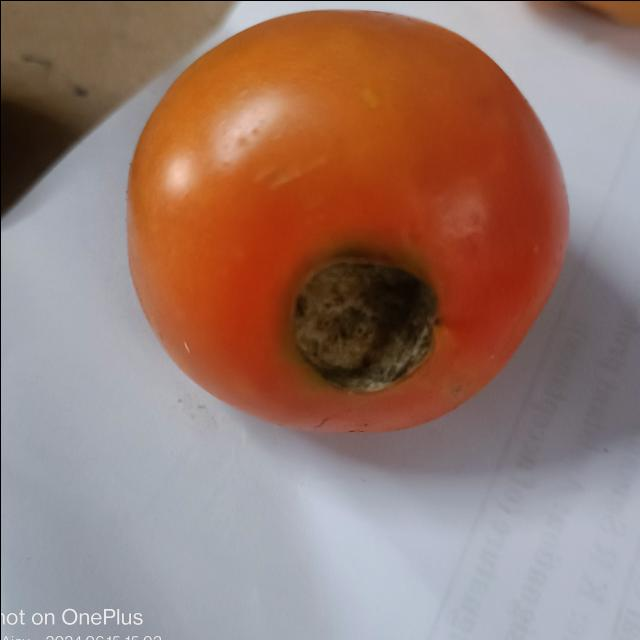fruitworm_bore: (280, 245, 432, 382)
